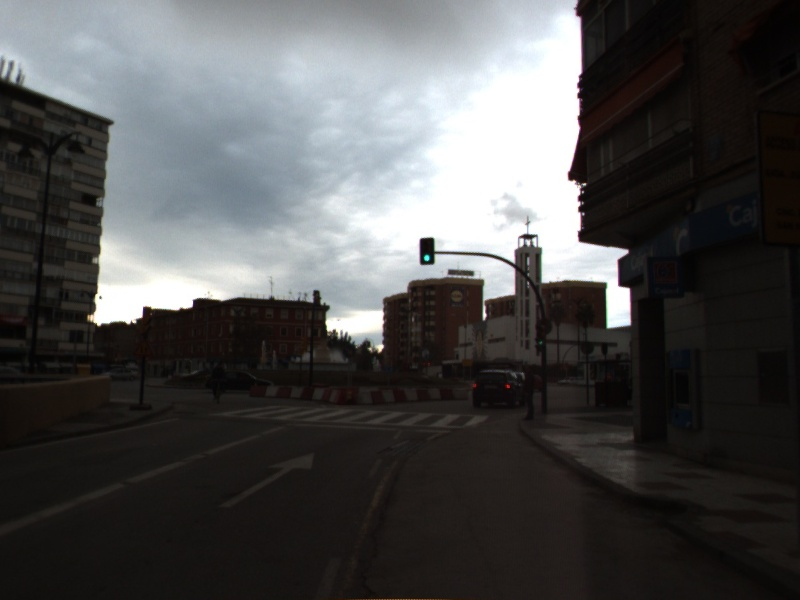STRAIGHT: (215, 450, 318, 510)
